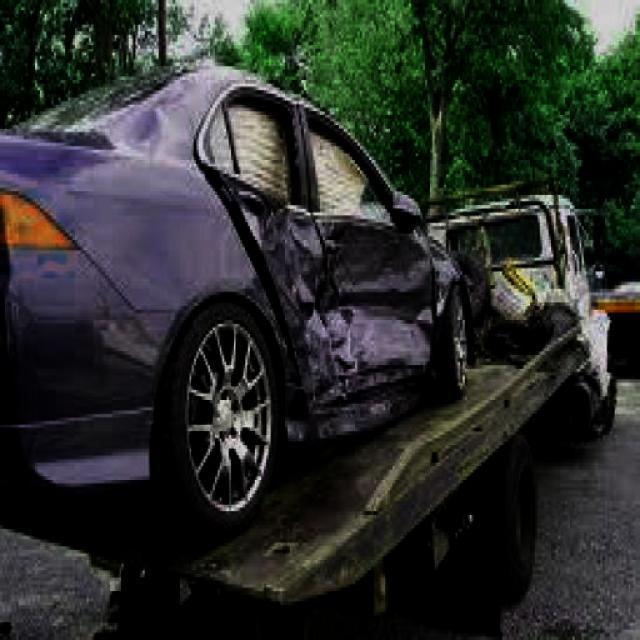car damage: (47, 65, 440, 443)
